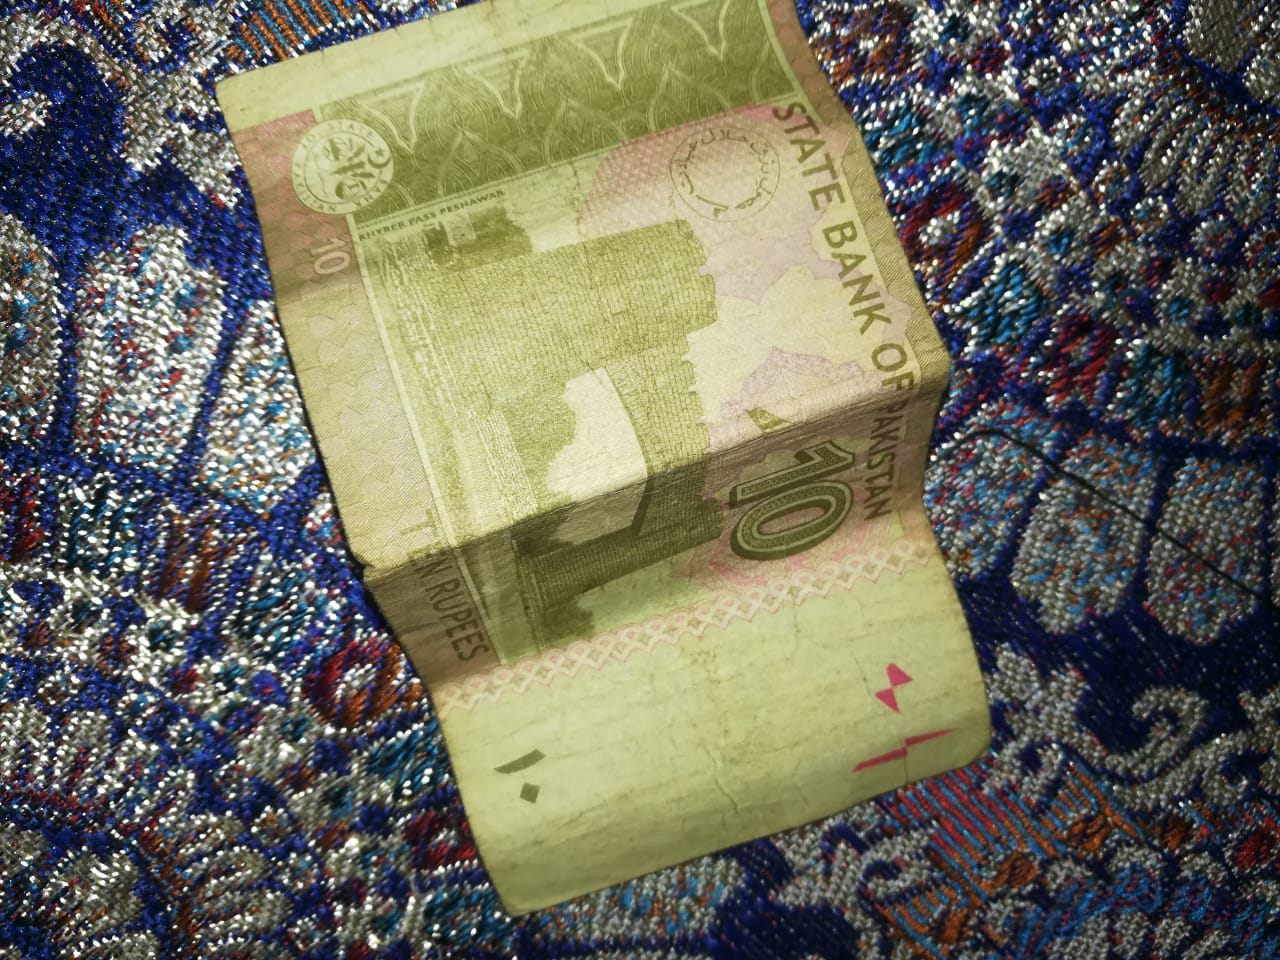10 rupee: (187, 29, 1051, 938)
